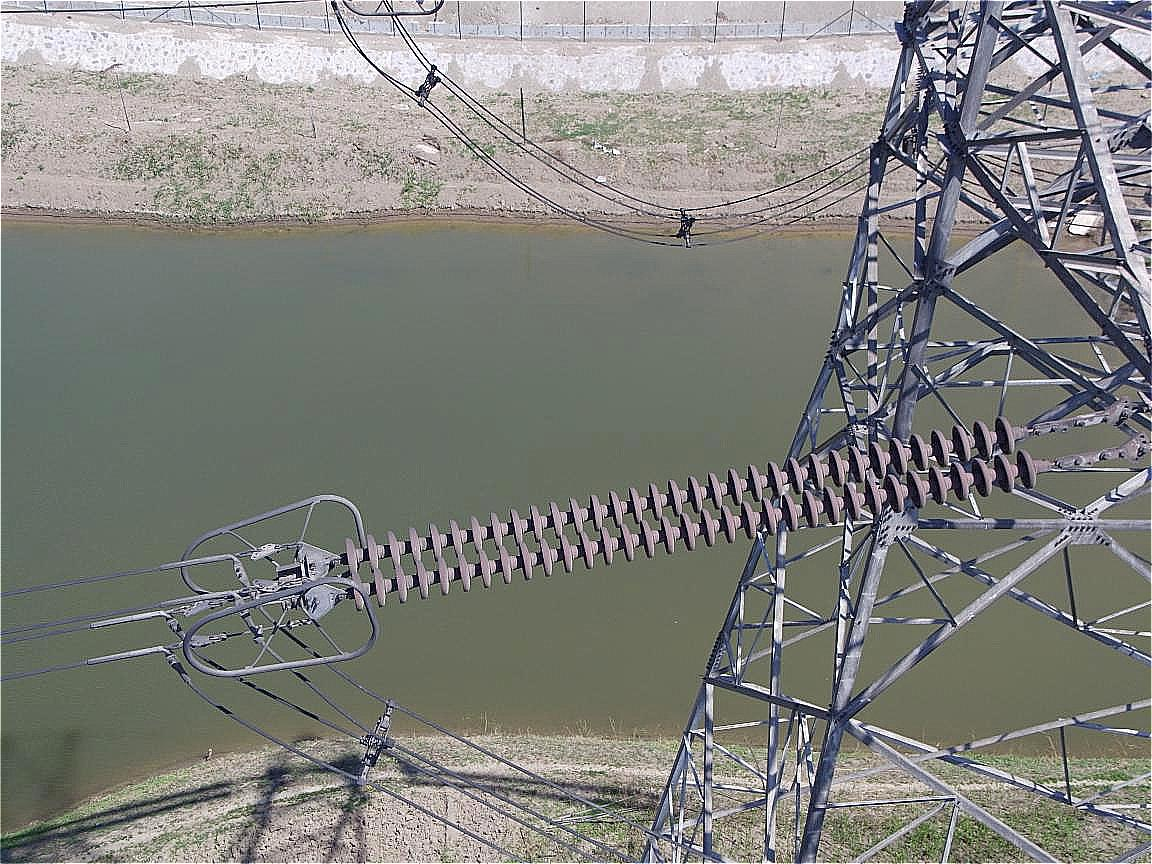insultor1: (344, 414, 1040, 610)
